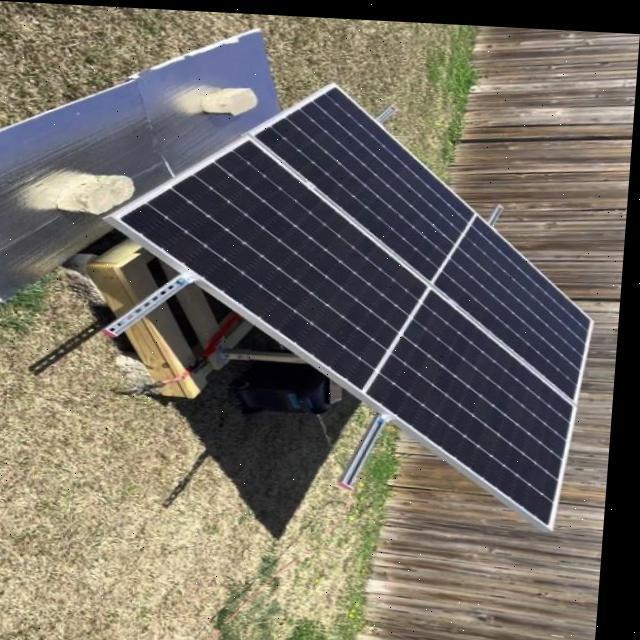Normal Solar Panel: (101, 70, 608, 524)
